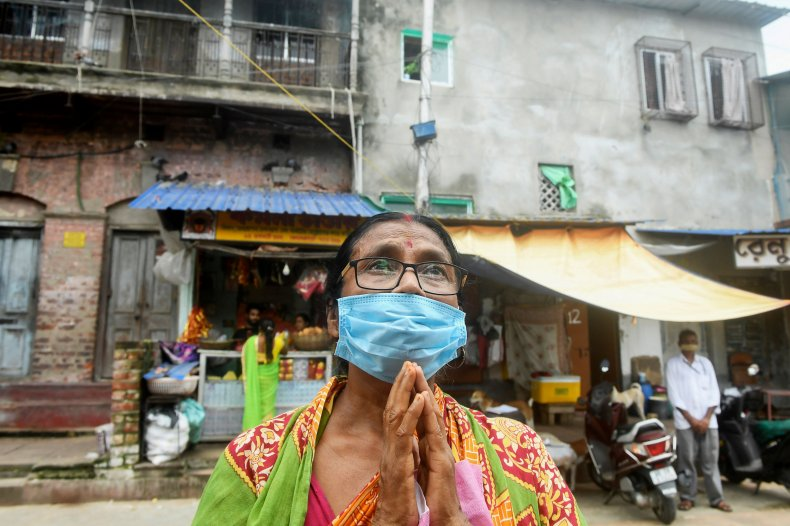with_incorrect_mask: (348, 234, 463, 376)
